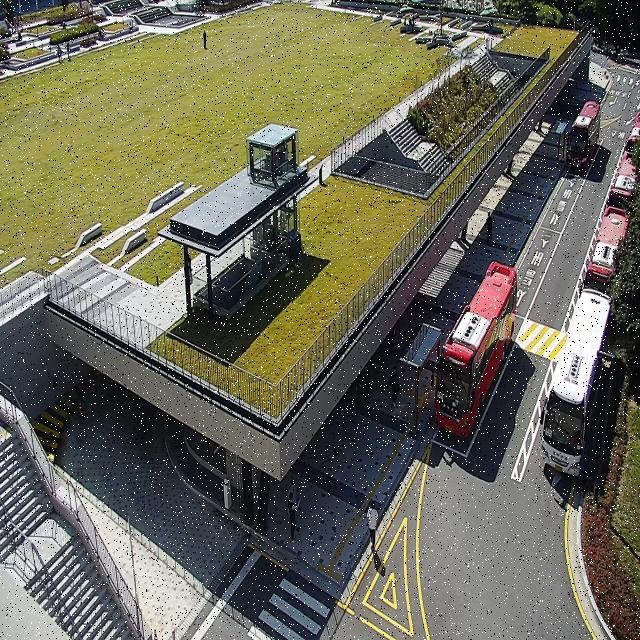queue: (417, 330, 439, 432)
